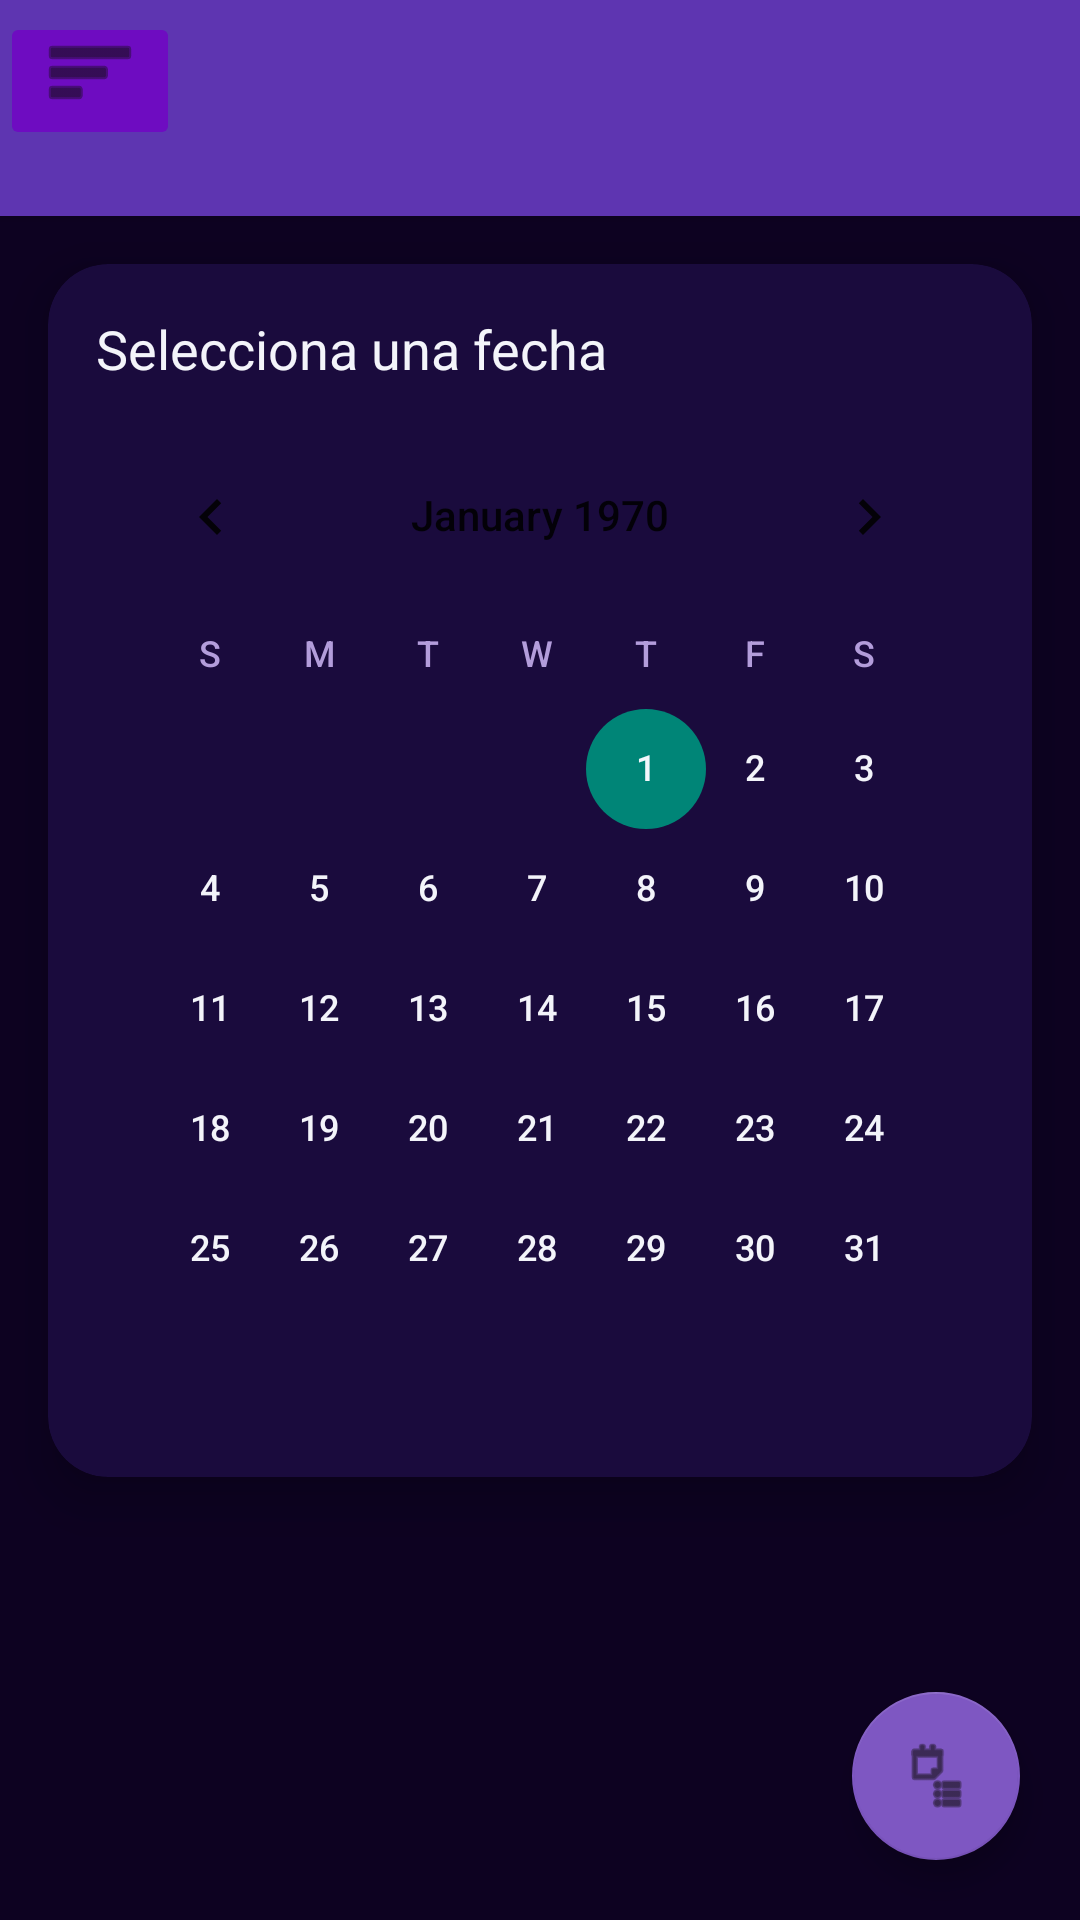

Icons on this 1080*1920 Android screen, each with its box as [left=x1, top=y1, right=x2, bottom=y2]:
Ver notas del día: [left=852, top=1692, right=1020, bottom=1860]
